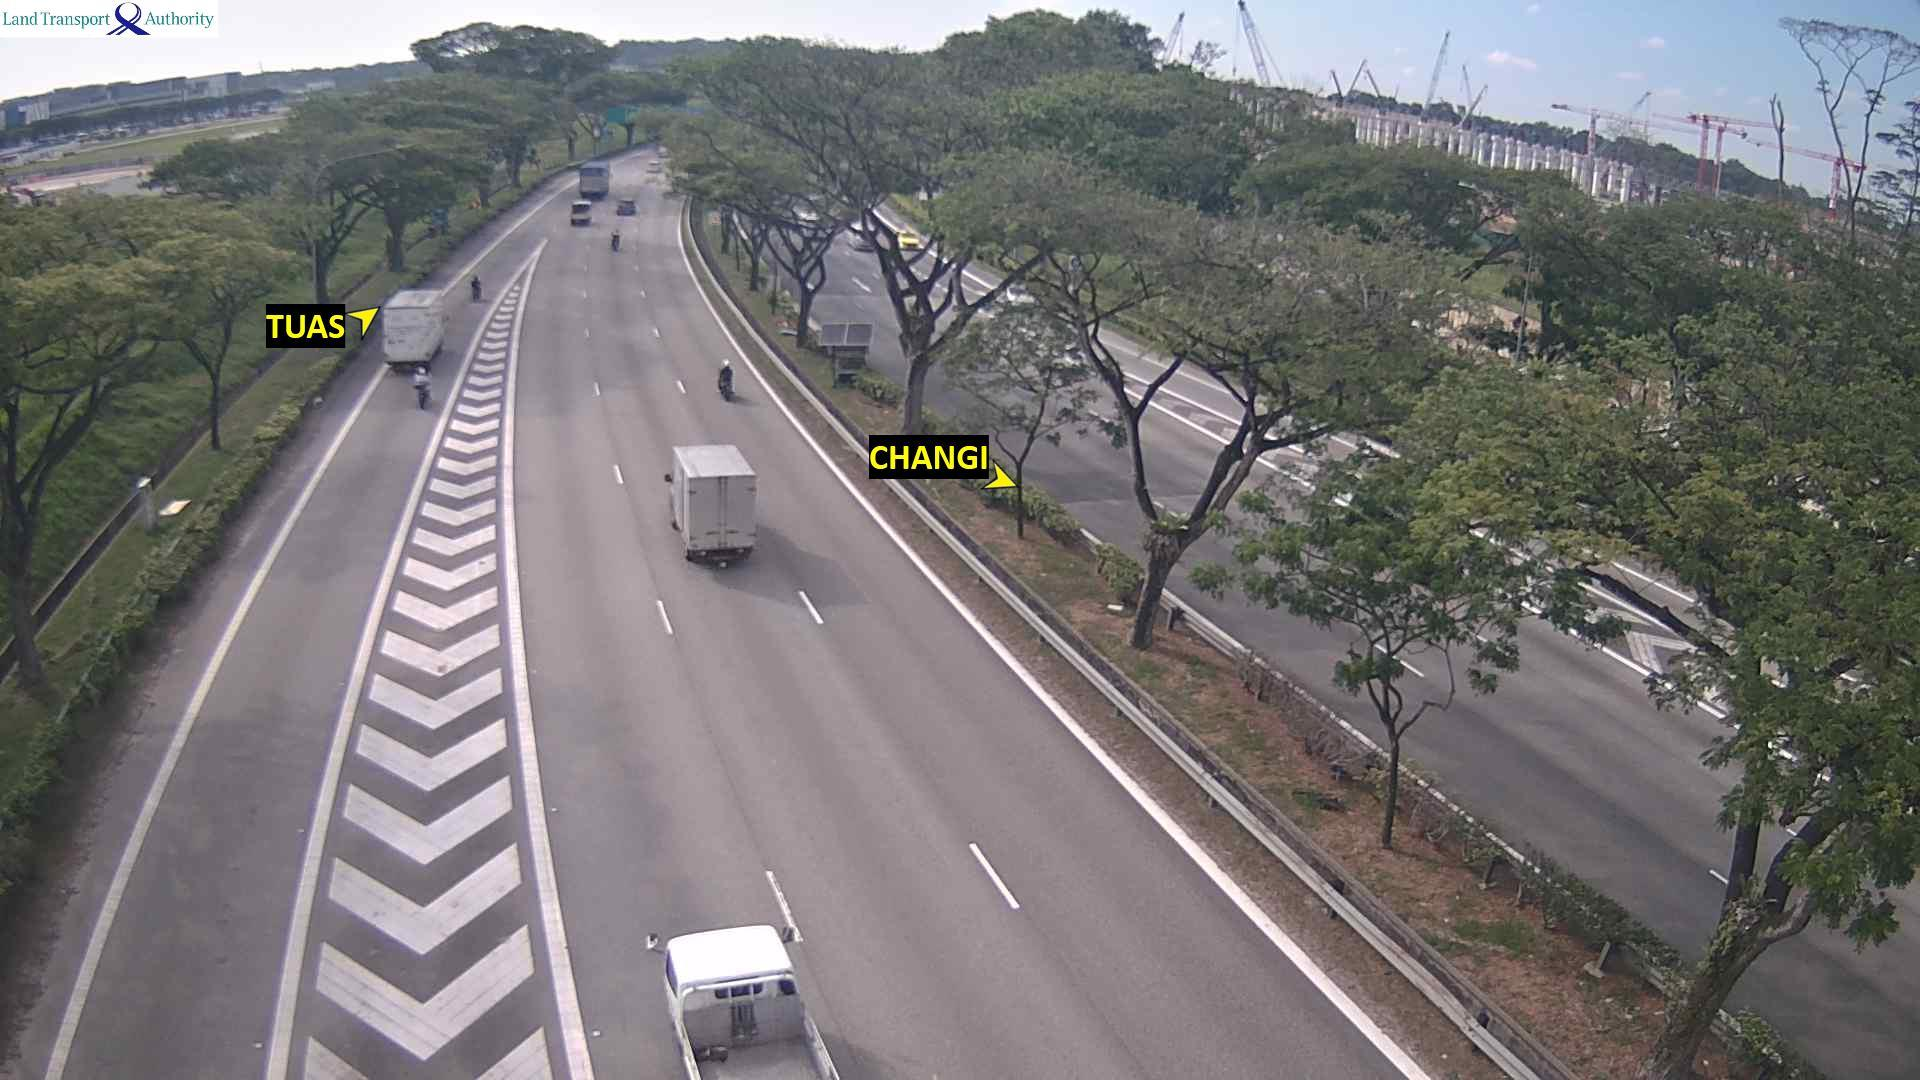cars: (655, 922, 802, 1063), (848, 218, 876, 251), (790, 203, 820, 228), (1004, 282, 1034, 306), (895, 227, 922, 251), (568, 199, 591, 225), (615, 196, 636, 215), (655, 144, 670, 160), (646, 158, 659, 171)
motorcycle: (410, 364, 436, 411), (717, 357, 742, 404), (469, 270, 485, 306), (608, 227, 625, 256)
trucks: (663, 442, 758, 567), (378, 287, 447, 375), (578, 161, 611, 196)
